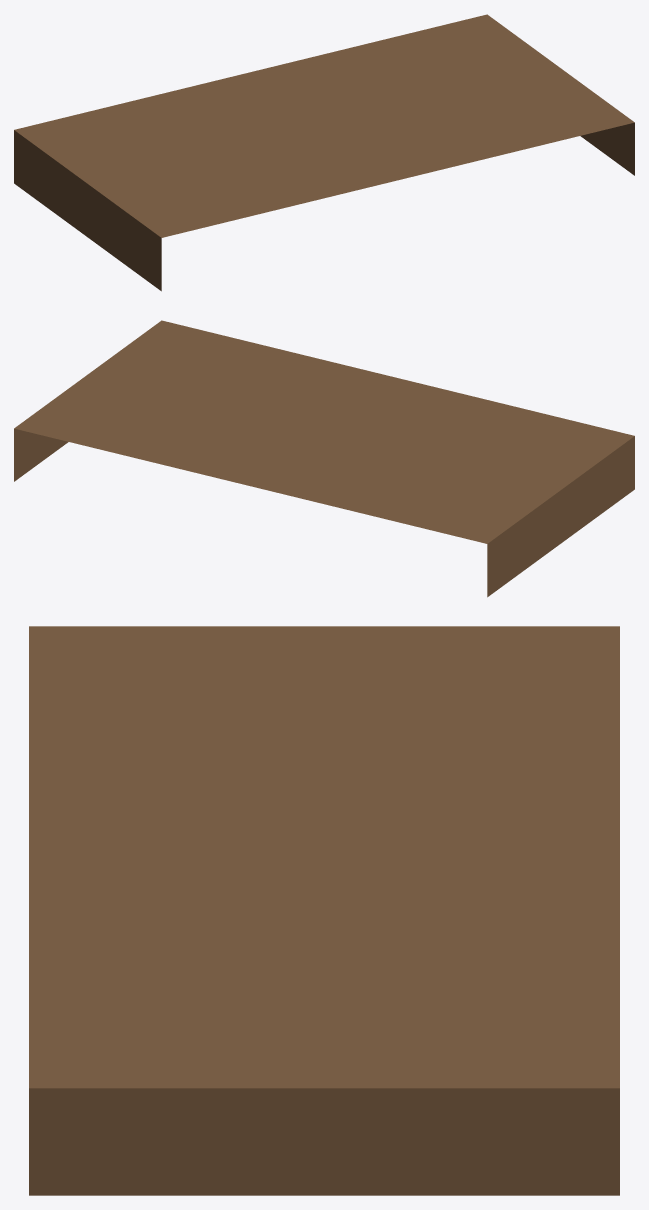
The model's file is conveyor_surface_strip.glb.
The picture shows the model from 3 angles, top to bottom: view 1: azimuth 30°, elevation 25°; view 2: azimuth 150°, elevation 25°; view 3: azimuth 270°, elevation 25°; orthographic projection. The views are drawn at different scales.
Visible parts, largest first — view 1: Road; view 2: Road; view 3: Road.
Boxes of the visible parts, box(x1,y1,x2,y2) form: Road: box(14, 14, 634, 291); Road: box(14, 320, 634, 597); Road: box(29, 626, 619, 1195).
Size of the model in its own units: 1.85 by 0.2 by 1.
